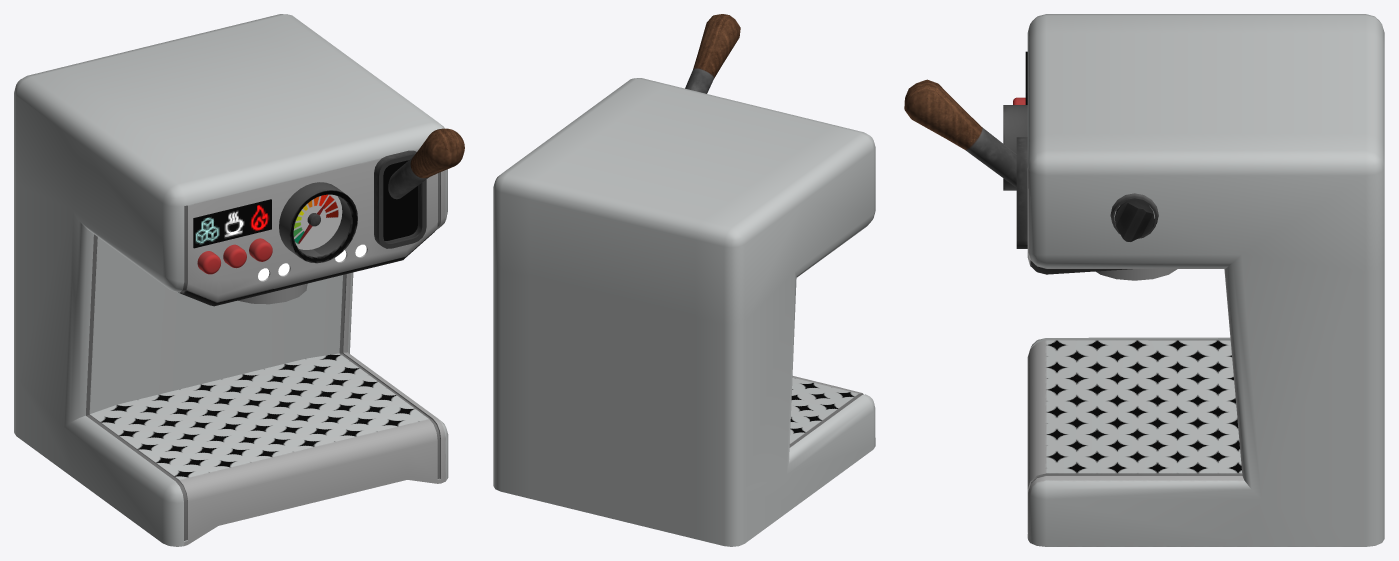
The model's file is BaristaMachine.fbx.
The picture shows the model from 3 angles, left to right: view 1: azimuth 30°, elevation 25°; view 2: azimuth 150°, elevation 25°; view 3: azimuth 270°, elevation 25°; orthographic projection. The views are drawn at different scales.
Visible parts, largest first — view 1: Barista Machine, GaugeMeter, HandleMount, Handle, TemperatureDisplay, CoffeeDispenser; view 2: Barista Machine, Handle; view 3: Barista Machine, Handle, HandleMount, SideKnob, GaugeMeter, CoffeeDispenser.
Boxes of the visible parts, x1=… form: Barista Machine: x1=14, y1=14, x2=448, y2=546; GaugeMeter: x1=279, y1=182, x2=357, y2=263; HandleMount: x1=374, y1=150, x2=426, y2=248; Handle: x1=388, y1=128, x2=464, y2=199; TemperatureDisplay: x1=193, y1=199, x2=271, y2=248; CoffeeDispenser: x1=238, y1=283, x2=307, y2=304; Barista Machine: x1=493, y1=78, x2=875, y2=546; Handle: x1=685, y1=14, x2=740, y2=93; Barista Machine: x1=1027, y1=14, x2=1384, y2=546; Handle: x1=904, y1=79, x2=1016, y2=187; HandleMount: x1=1016, y1=137, x2=1027, y2=248; SideKnob: x1=1114, y1=200, x2=1154, y2=241; GaugeMeter: x1=1003, y1=105, x2=1027, y2=190; CoffeeDispenser: x1=1096, y1=269, x2=1177, y2=280.
Size of the model in its own units: 107 by 134 by 134.
